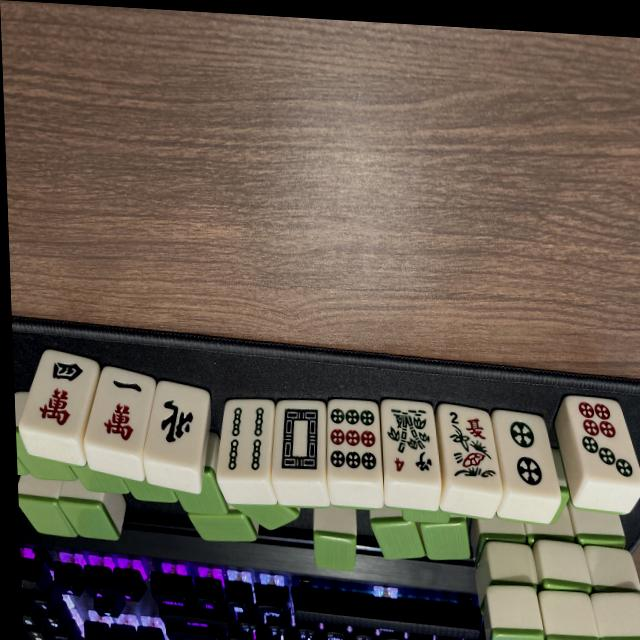bai: (271, 401, 327, 481)
f4: (384, 401, 443, 484)
ff2: (438, 405, 502, 490)
m1: (83, 365, 158, 457)
m4: (15, 344, 100, 440)
north: (142, 383, 213, 470)
s4: (217, 398, 277, 481)
t2: (492, 410, 560, 498)
t7: (566, 399, 640, 491)
t9: (327, 401, 384, 482)
